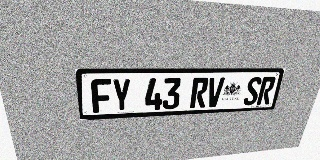3: (162, 78, 181, 110)
4: (145, 78, 164, 110)
F: (91, 79, 112, 113)
R: (190, 77, 209, 108), (256, 77, 276, 105)
S: (243, 77, 263, 105)
V: (205, 77, 225, 107)
Y: (112, 78, 131, 112)
